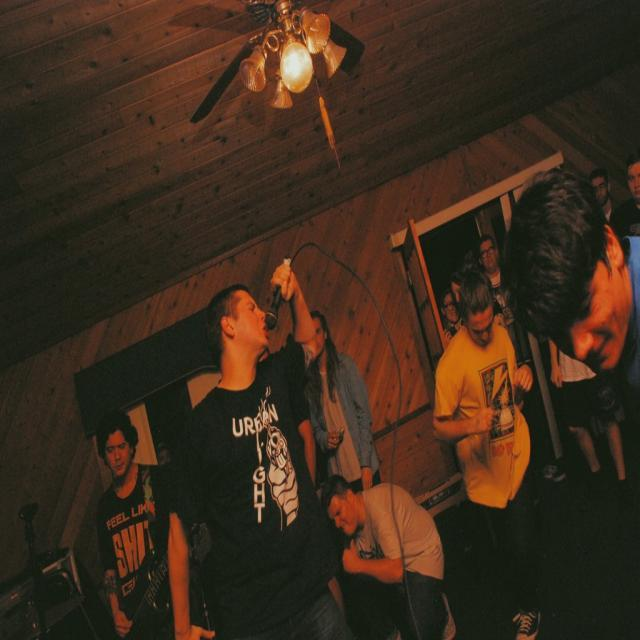bulb_on: (280, 40, 314, 94)
fan_off: (169, 1, 252, 130)
